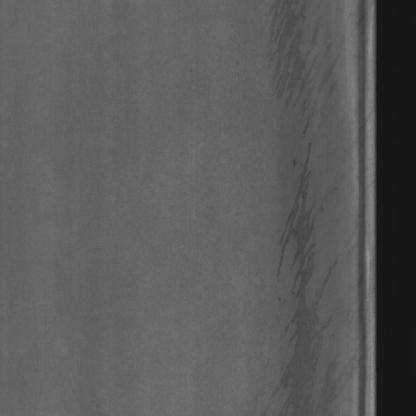water_spot: (257, 1, 346, 405)
